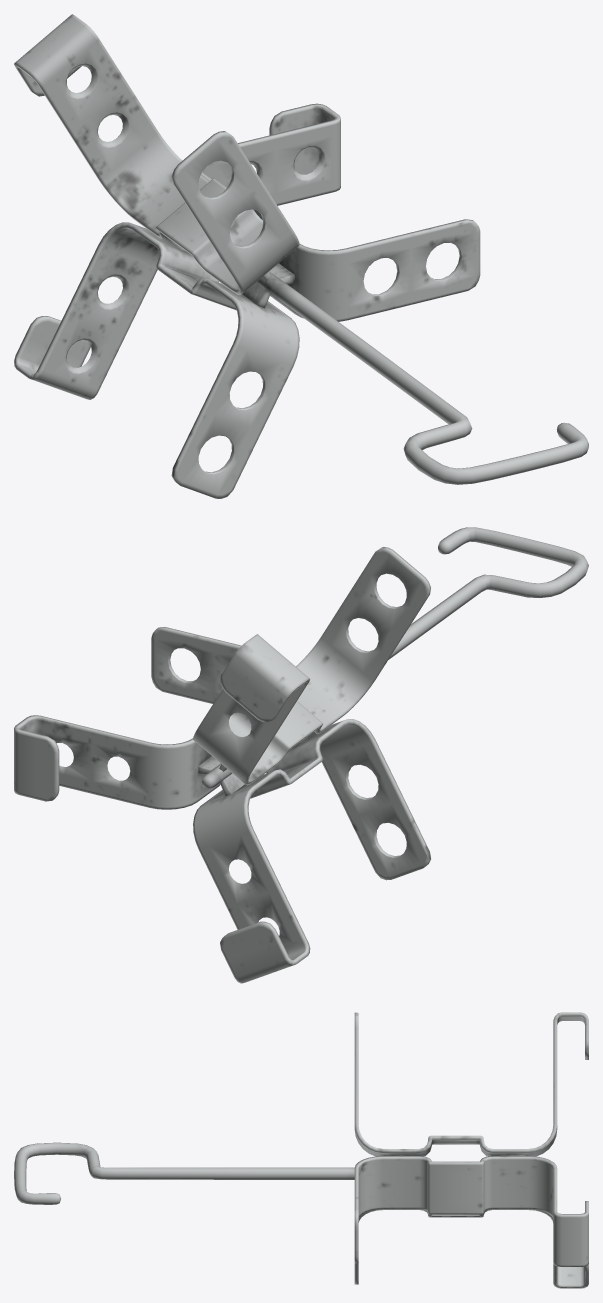
File: test_tube_rack.obj
3 views of the same model, one above another, from view 1: azimuth 30°, elevation 25°; view 2: azimuth 150°, elevation 25°; view 3: azimuth 270°, elevation 25° (orthographic). The views are drawn at different scales.
Visible parts, largest first — view 1: tall_test_tube_rack; view 2: tall_test_tube_rack; view 3: tall_test_tube_rack.
Part boxes in pixels (box(x1,y1,x2,y2)): tall_test_tube_rack: box(14, 14, 588, 498); tall_test_tube_rack: box(14, 527, 588, 983); tall_test_tube_rack: box(14, 1012, 588, 1288).
Size of the model in its own units: 0.1369 by 0.1578 by 0.2974.
Materials: 1 (1 with a texture image).
